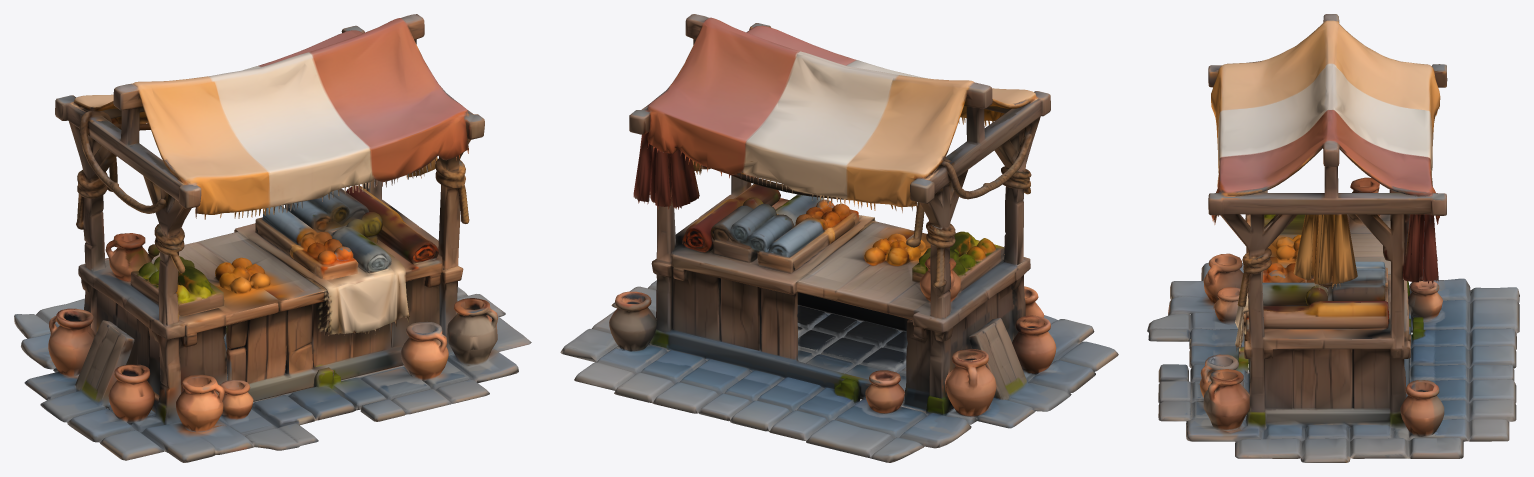
File: stall.glb
3 renders of one model, left to right at view 1: azimuth 30°, elevation 25°; view 2: azimuth 150°, elevation 25°; view 3: azimuth 270°, elevation 25°, orthographic. The views are drawn at different scales.
Visible parts, largest first — view 1: node_0; view 2: node_0; view 3: node_0.
Part boxes in pixels (x1,y1,x2,y2): node_0: [14, 14, 531, 462]; node_0: [560, 14, 1118, 462]; node_0: [1147, 14, 1519, 462].
Size of the model in its own units: 0.9283 by 0.6176 by 0.7312.
Materials: 1 (1 with a texture image).
